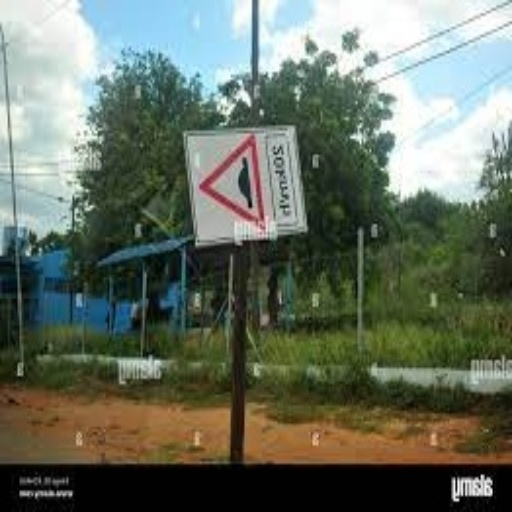Speed Breaker ahead: (184, 120, 291, 243)
